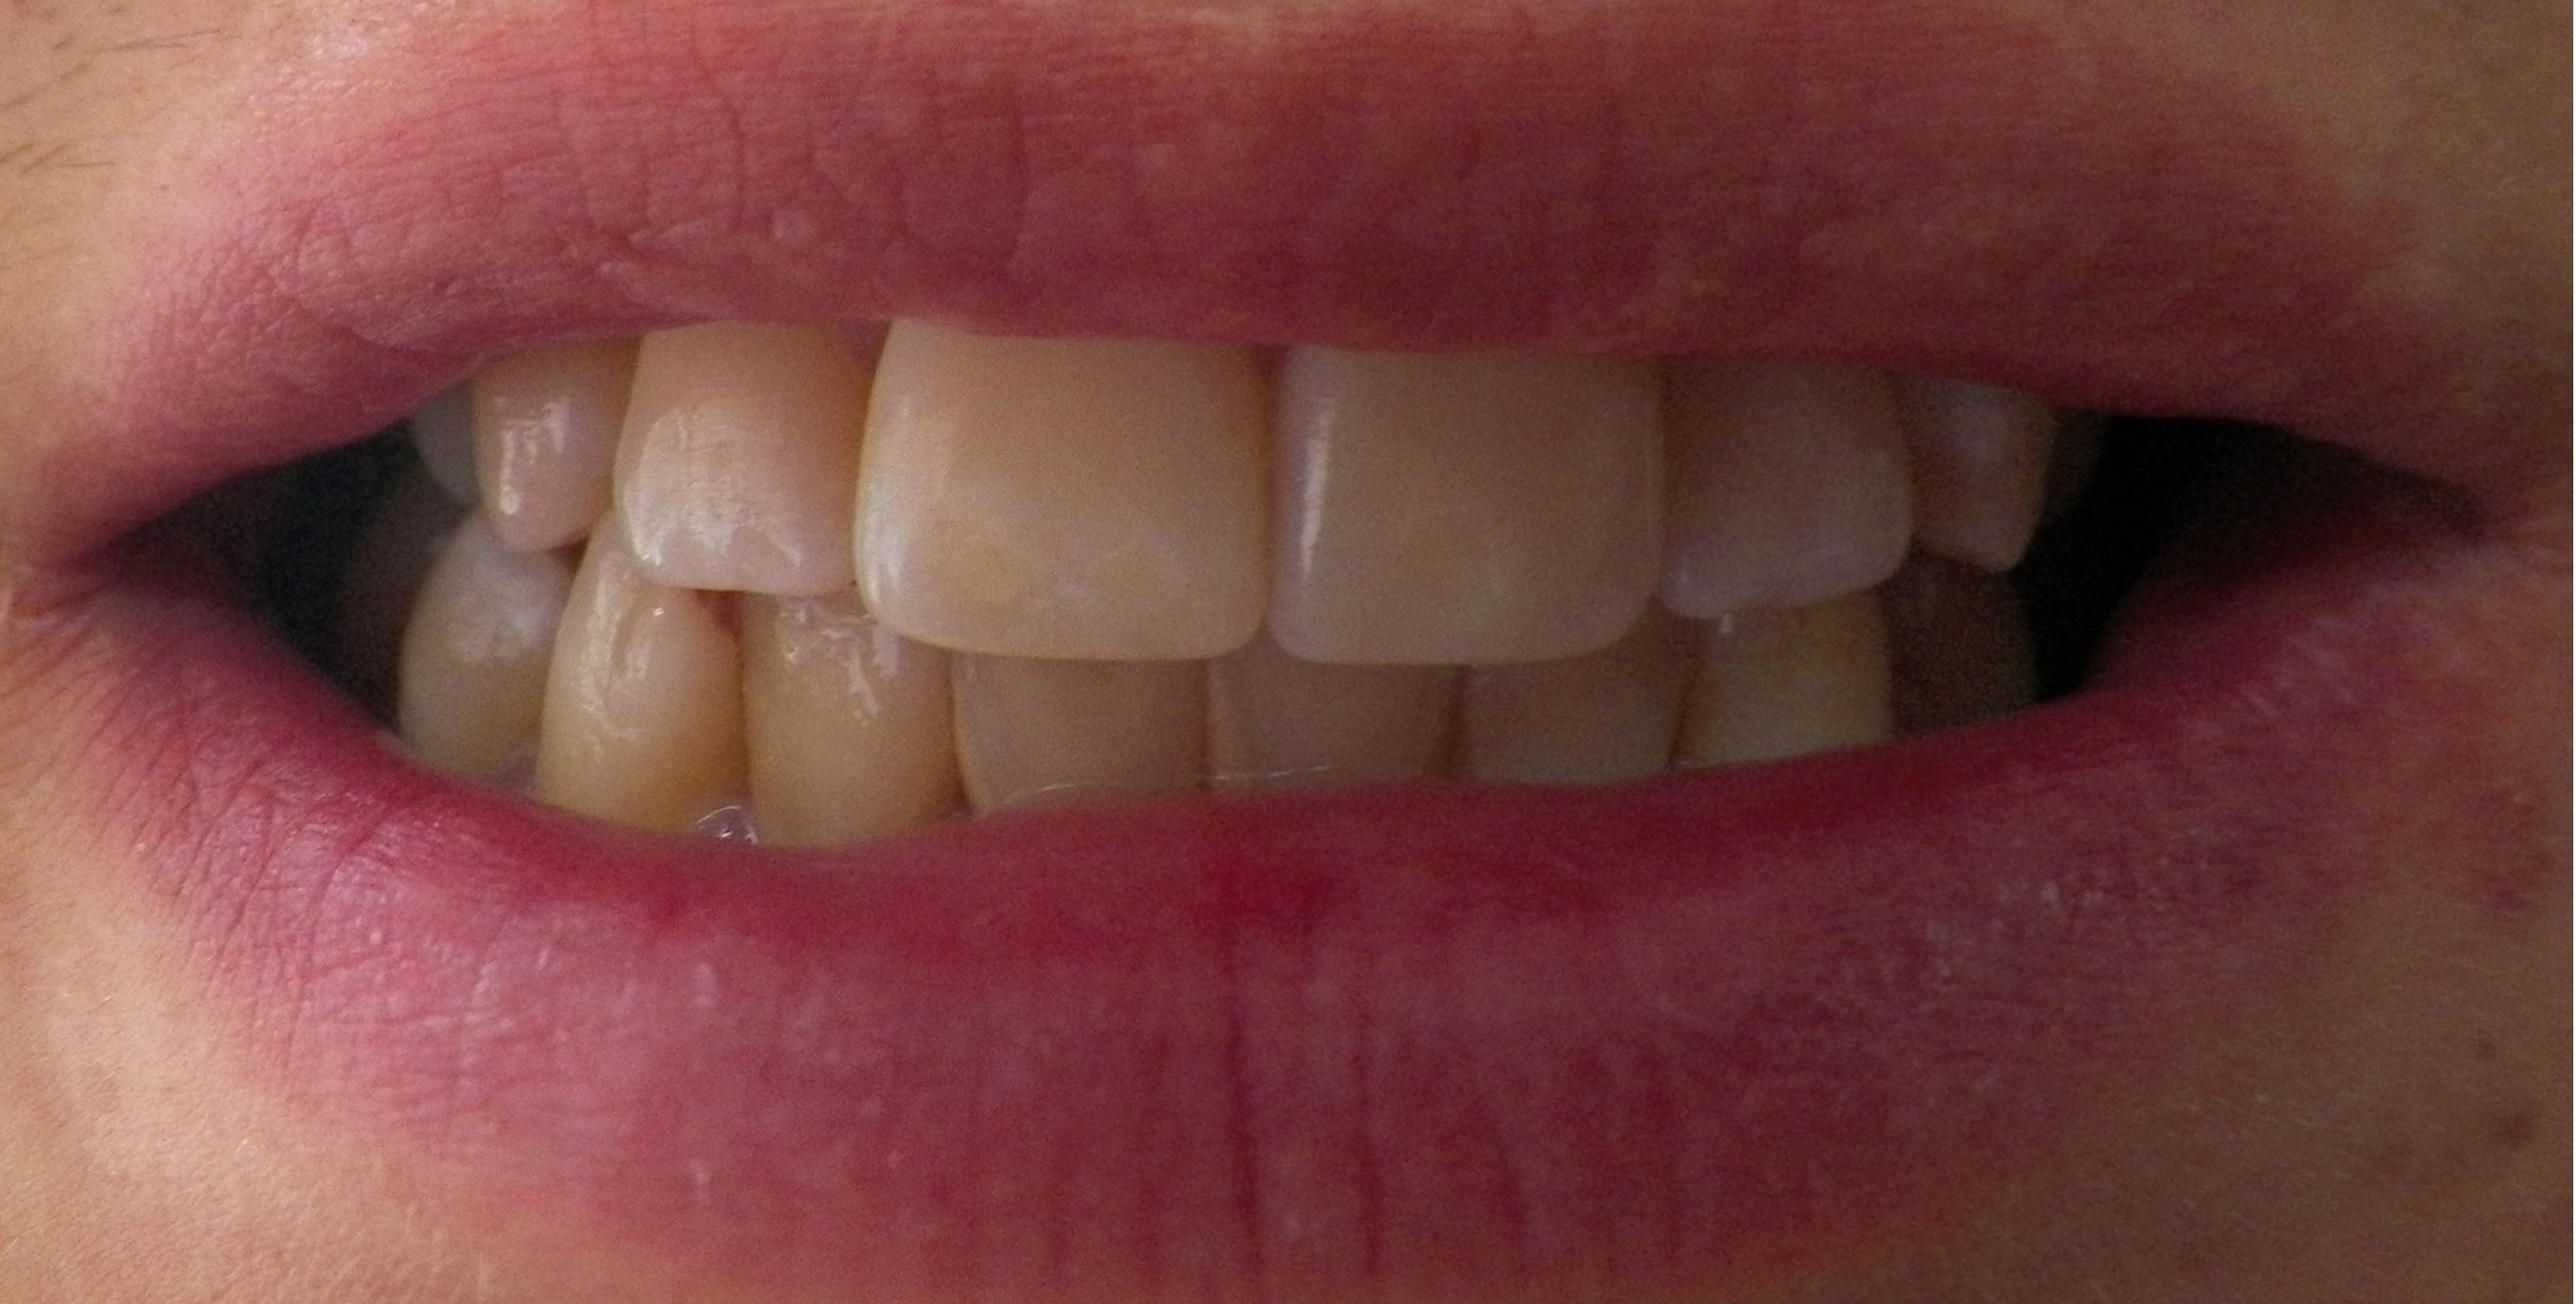boca: (326, 316, 2067, 847)
